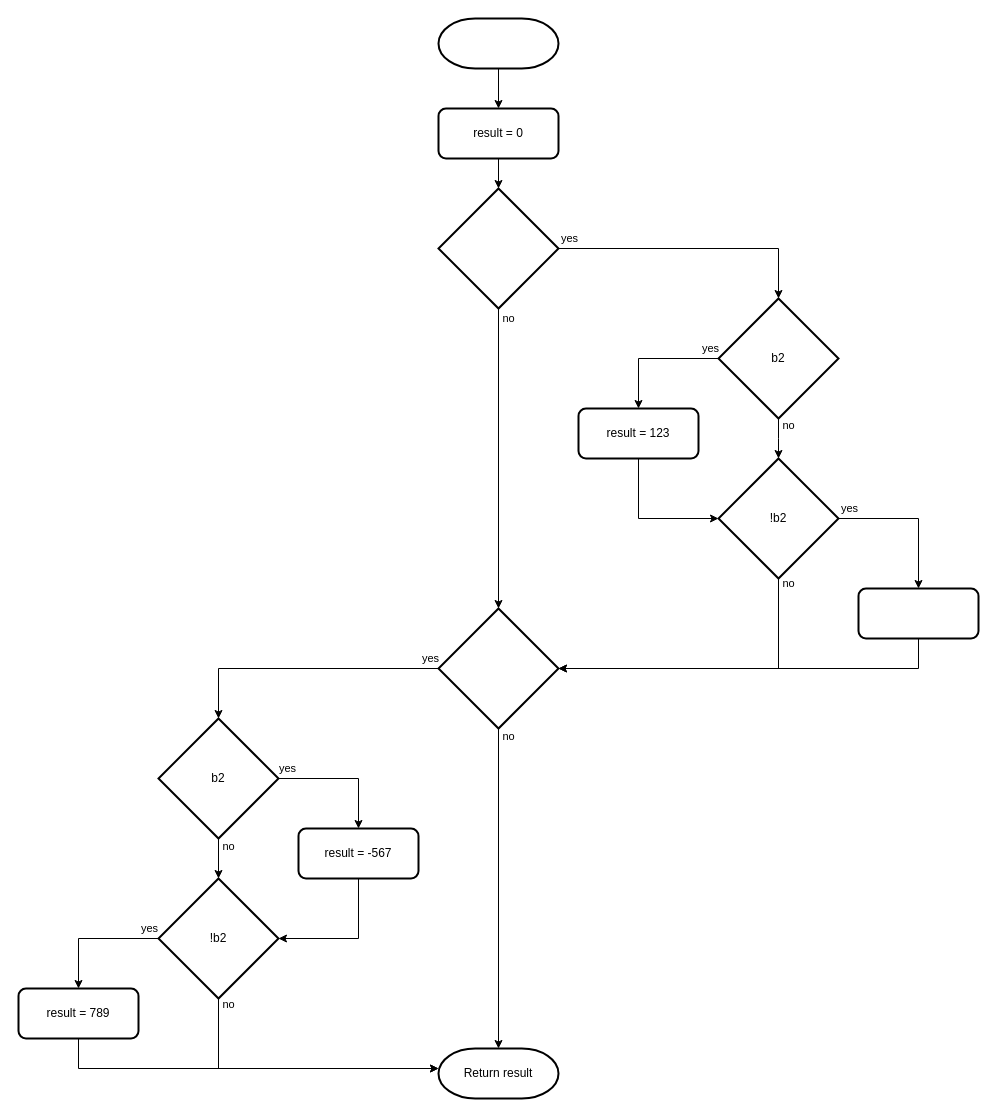
Image size: 996x1116. Some labels were removed from this diagram. Each missing label, with the box of its shape:
!b1: (437, 607, 559, 729)
b1: (437, 187, 559, 309)
result = -345: (857, 587, 979, 639)
Start: (437, 17, 559, 69)
